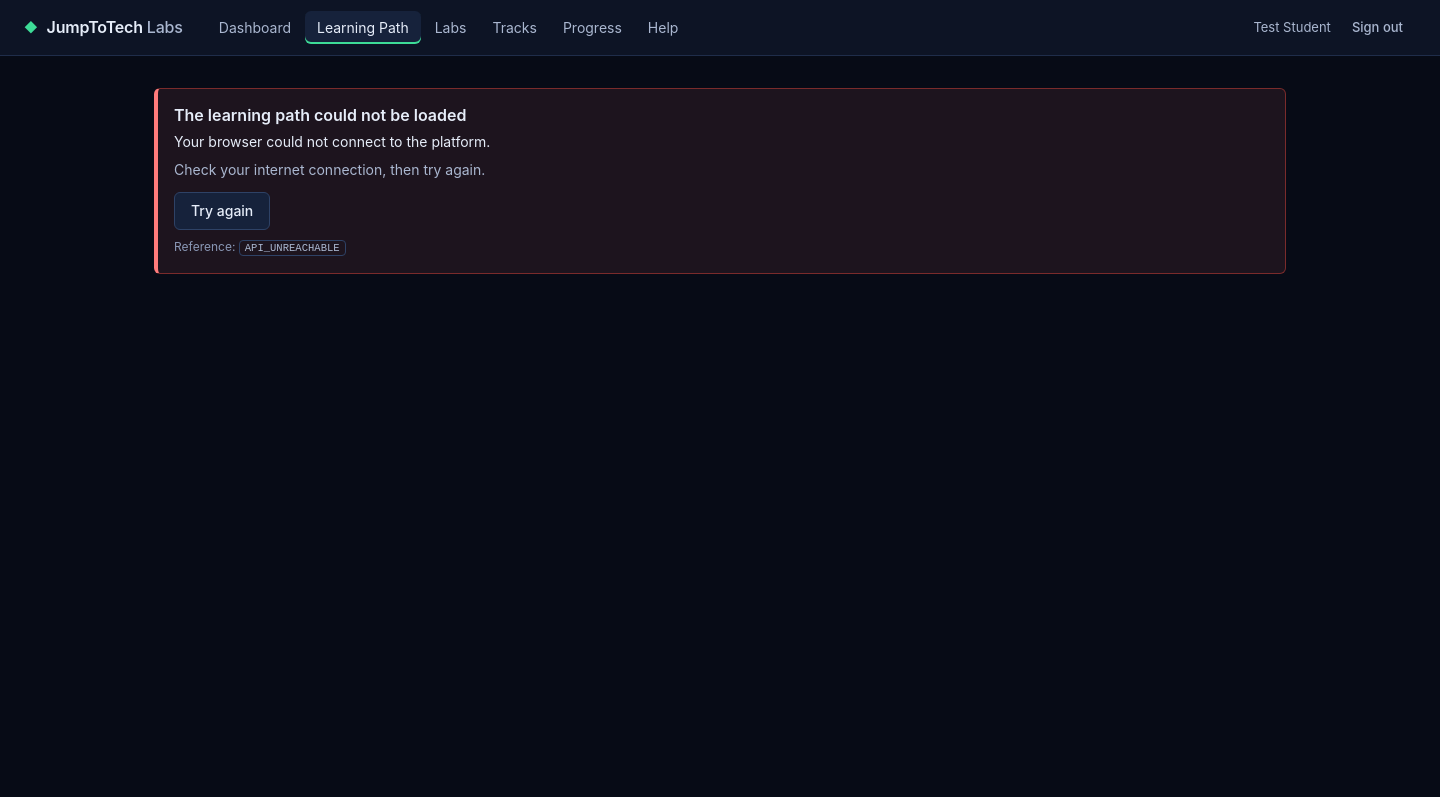
Scenario: the learning path page › says so when the path cannot be reached, with Try again
Expected: the heading "The learning path could not be loaded" is shown, [174,105,466,125]
Click the button "Try again".
click(222, 211)  # box [174,192,270,230]
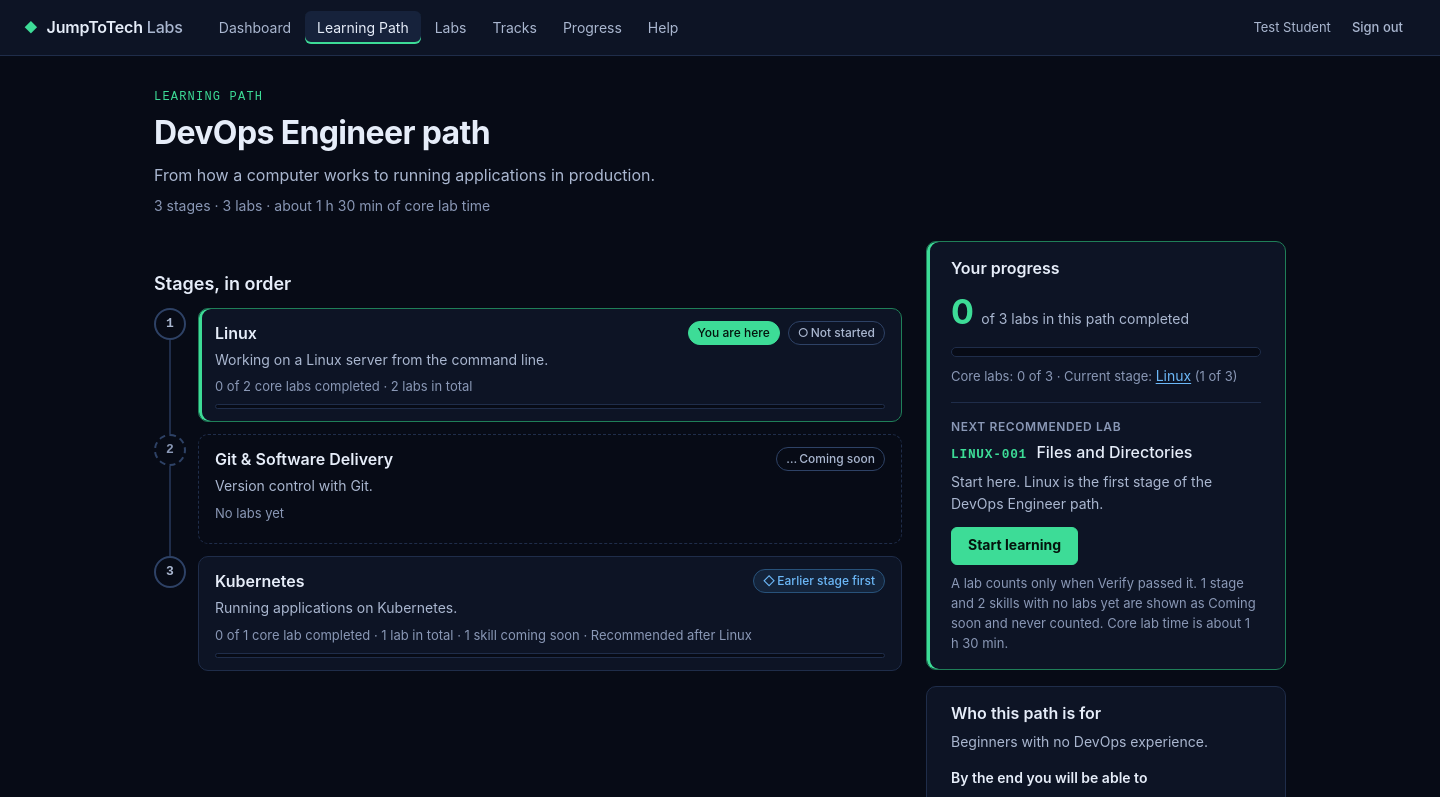
Expected: the heading "DevOps Engineer path" is shown, [154,113,490,152]
